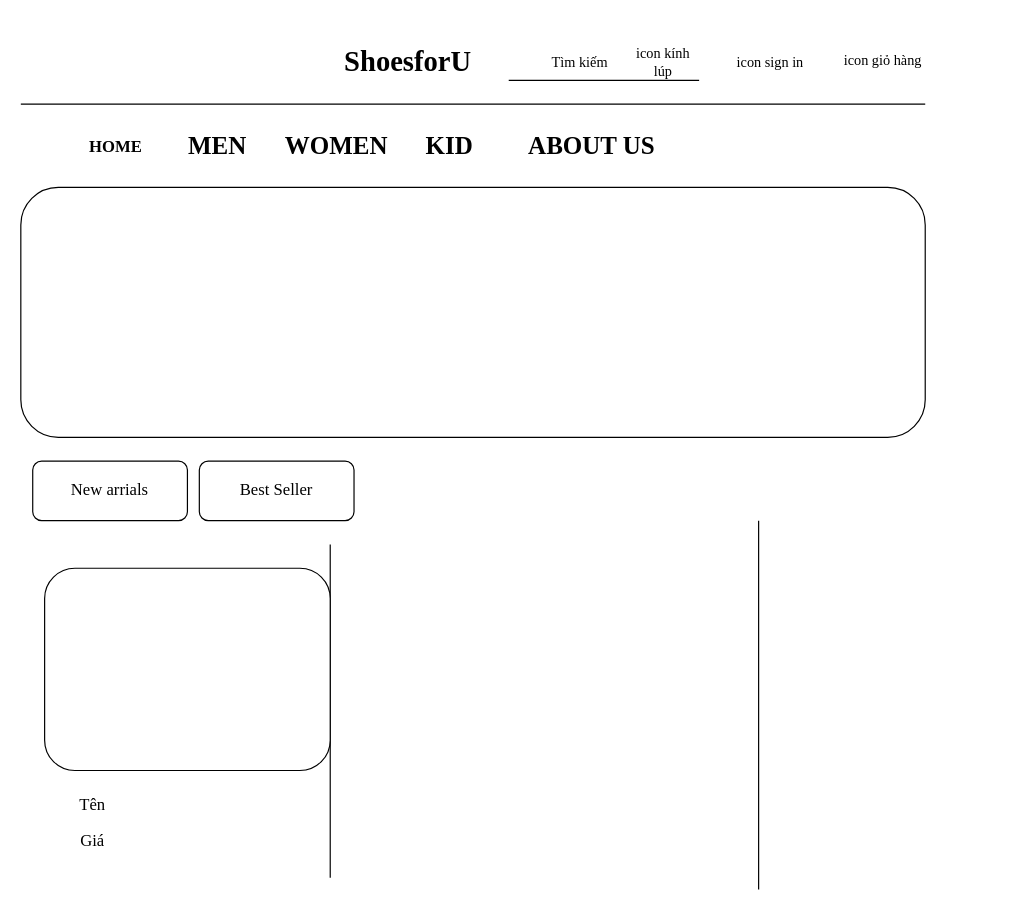
Image size: 1017x912. Some labels were removed from this diagram. The shapes that lost their labels are listed below. From the top down, each one's centre as x and y in pixels, then its label:
At (x=472, y=311): "ảnh hoặc hình động lấy từ db".
At (x=186, y=669): "HÌNH".
